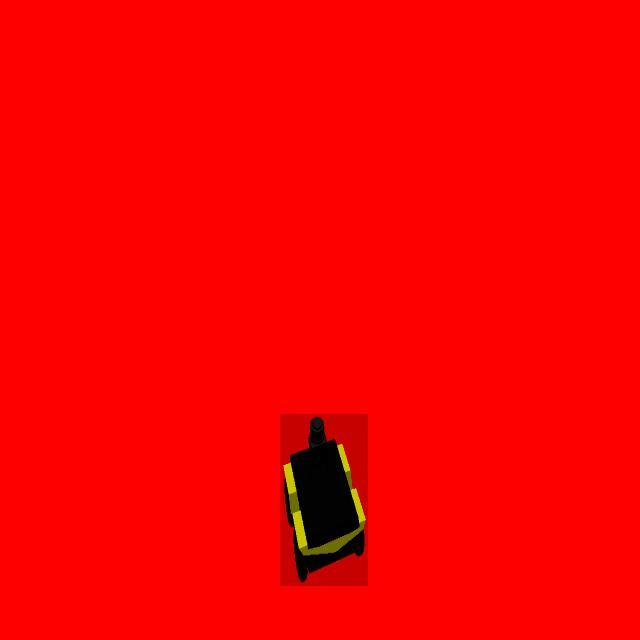jackal: (280, 414, 368, 586)
